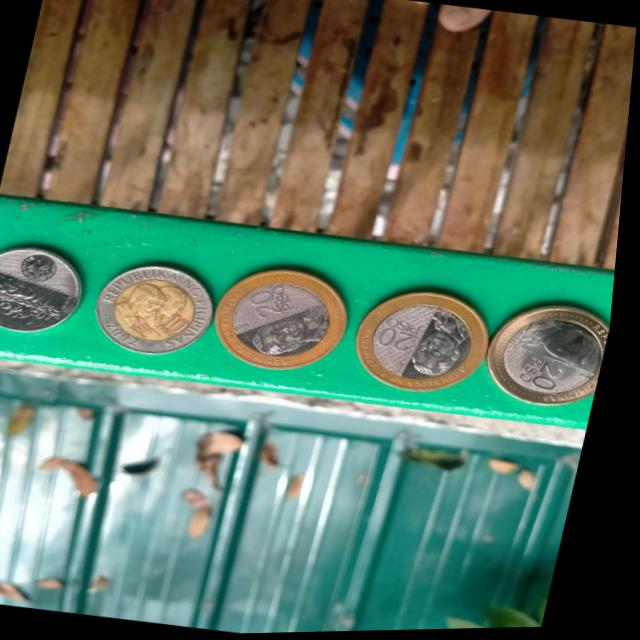10_Old_Front: (150, 303, 198, 347)
20_New_Front: (373, 312, 433, 372), (520, 350, 581, 400)
5_New_Back: (0, 274, 74, 330)
